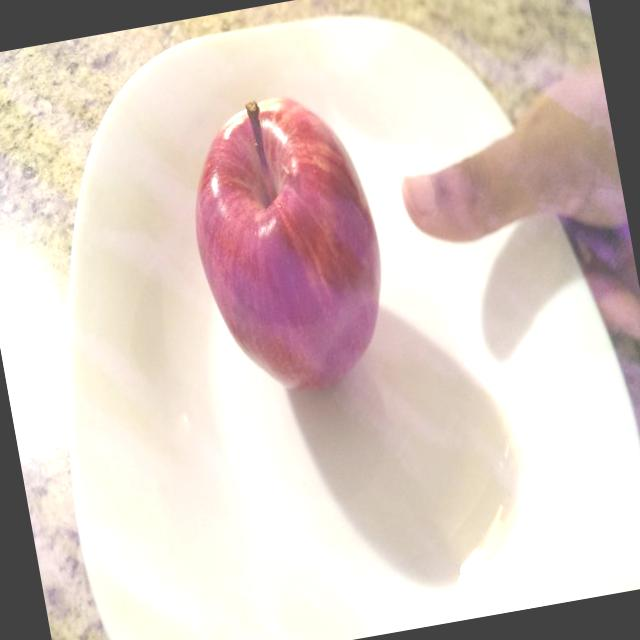Apple: (170, 74, 407, 412)
Finger: (390, 130, 513, 262)
